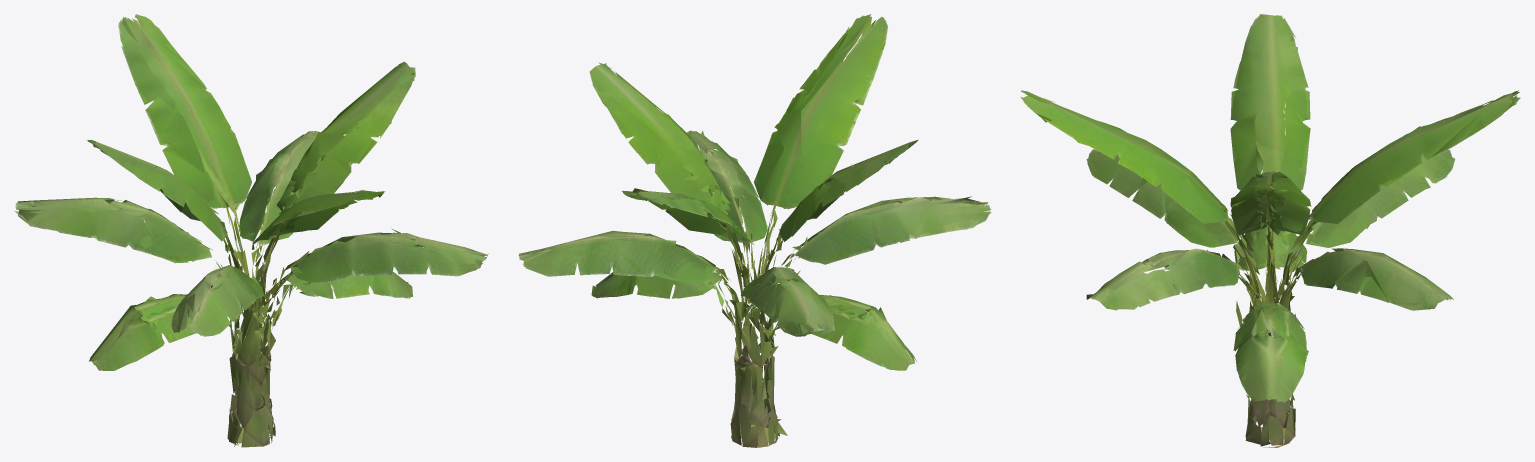
Rendered from BananaPlant.glb.
3 renders of one model, left to right at view 1: azimuth 30°, elevation 25°; view 2: azimuth 150°, elevation 25°; view 3: azimuth 270°, elevation 25°, orthographic. The views are drawn at different scales.
Parts seen in each view (by area): view 1: BananaPlant; view 2: BananaPlant; view 3: BananaPlant.
Part boxes in pixels (x1,y1,x2,y2): BananaPlant: (15,14,488,447); BananaPlant: (518,14,991,447); BananaPlant: (1020,14,1520,447).
Bounding box in the file's own units: 1.44 × 1.45 × 1.9.
1 material, 1 textured.
